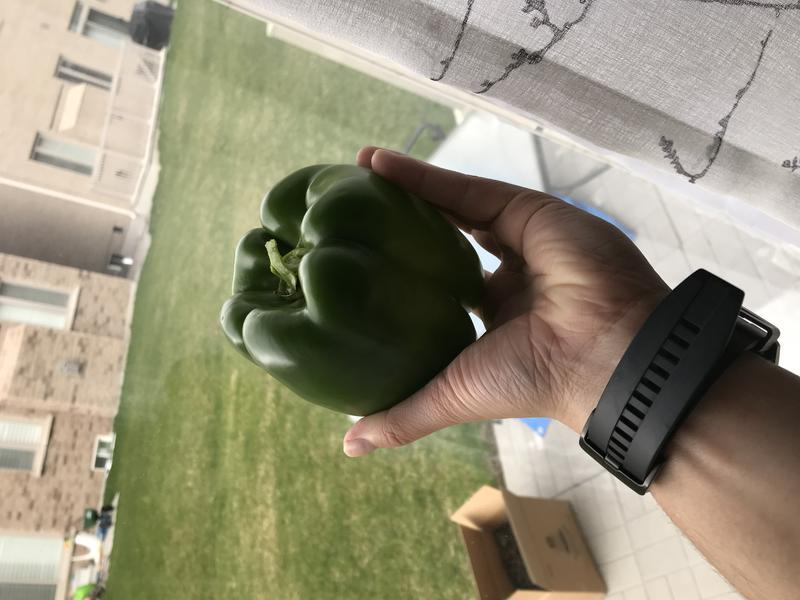green_pepper: (210, 149, 503, 428)
